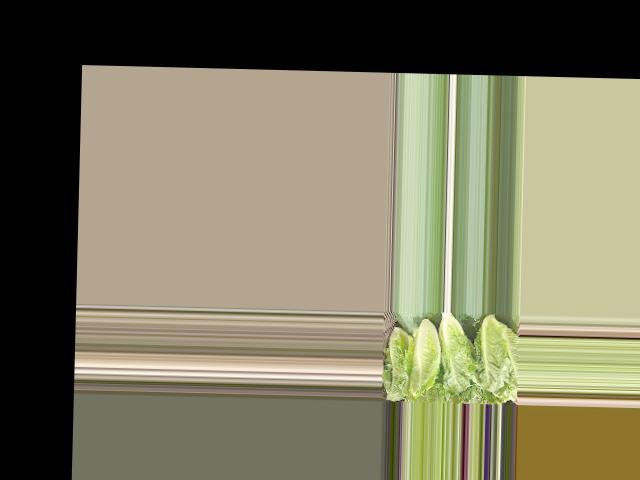lettuce: (387, 329, 411, 401)
